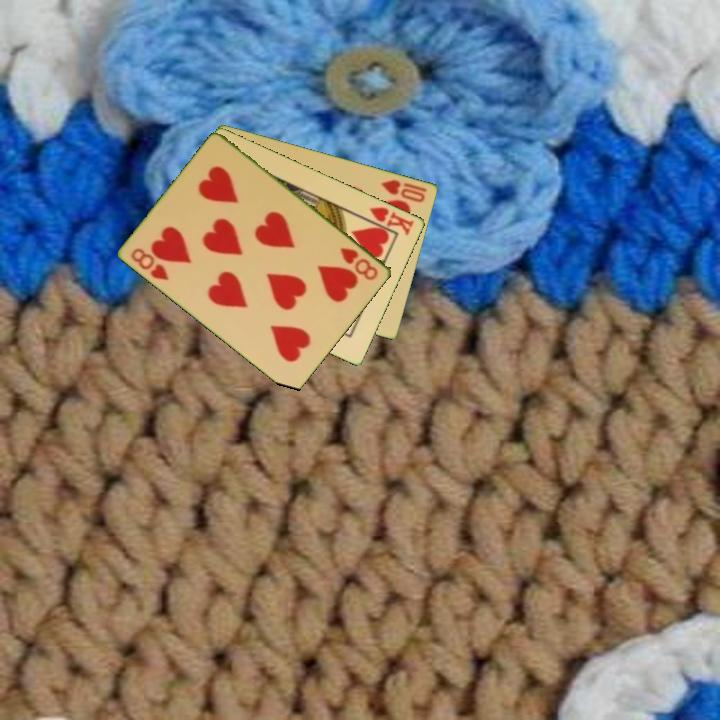10h: (378, 176, 430, 205)
8h: (337, 244, 381, 283), (128, 244, 172, 283)
Kh: (360, 203, 417, 238)
